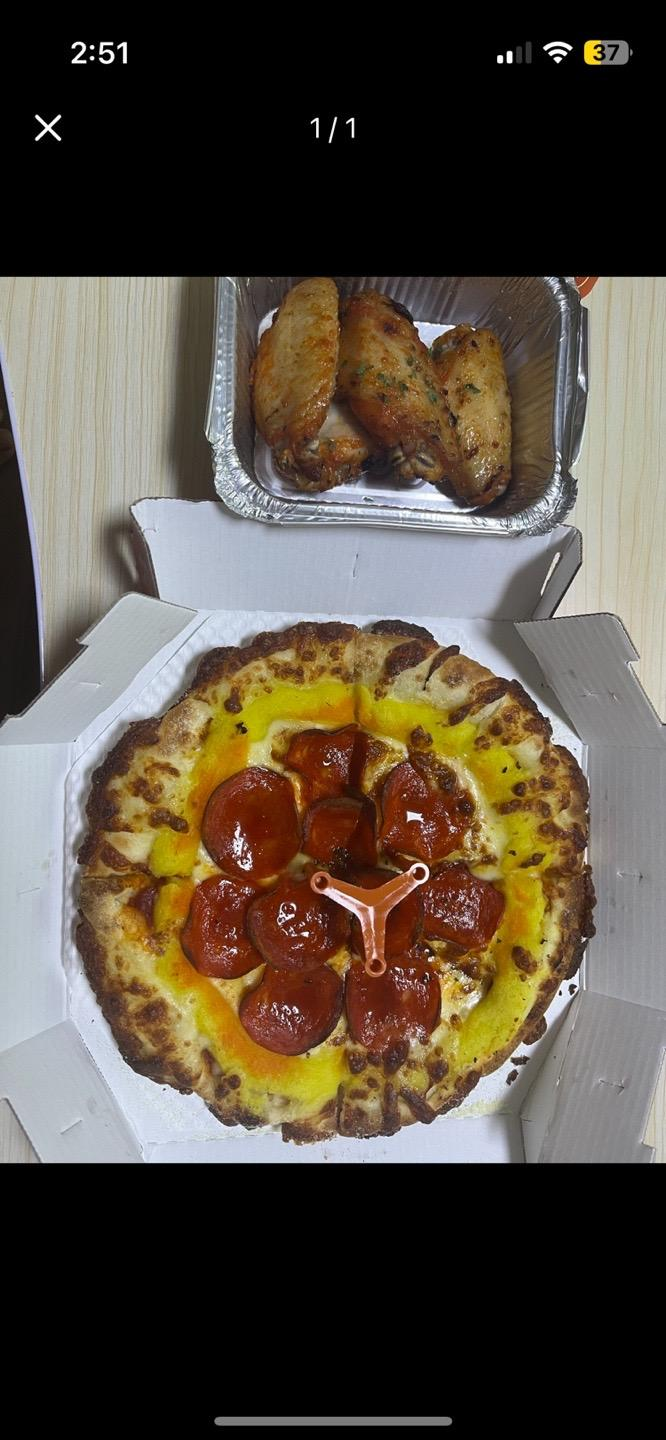Lunch Box: (0, 500, 665, 1163), (206, 276, 596, 536)
